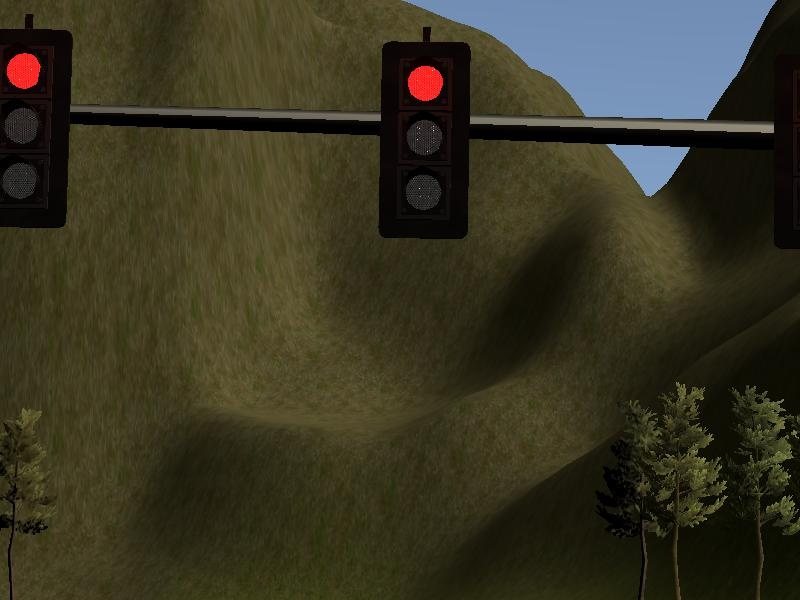red: (381, 39, 469, 249), (1, 28, 79, 227)
